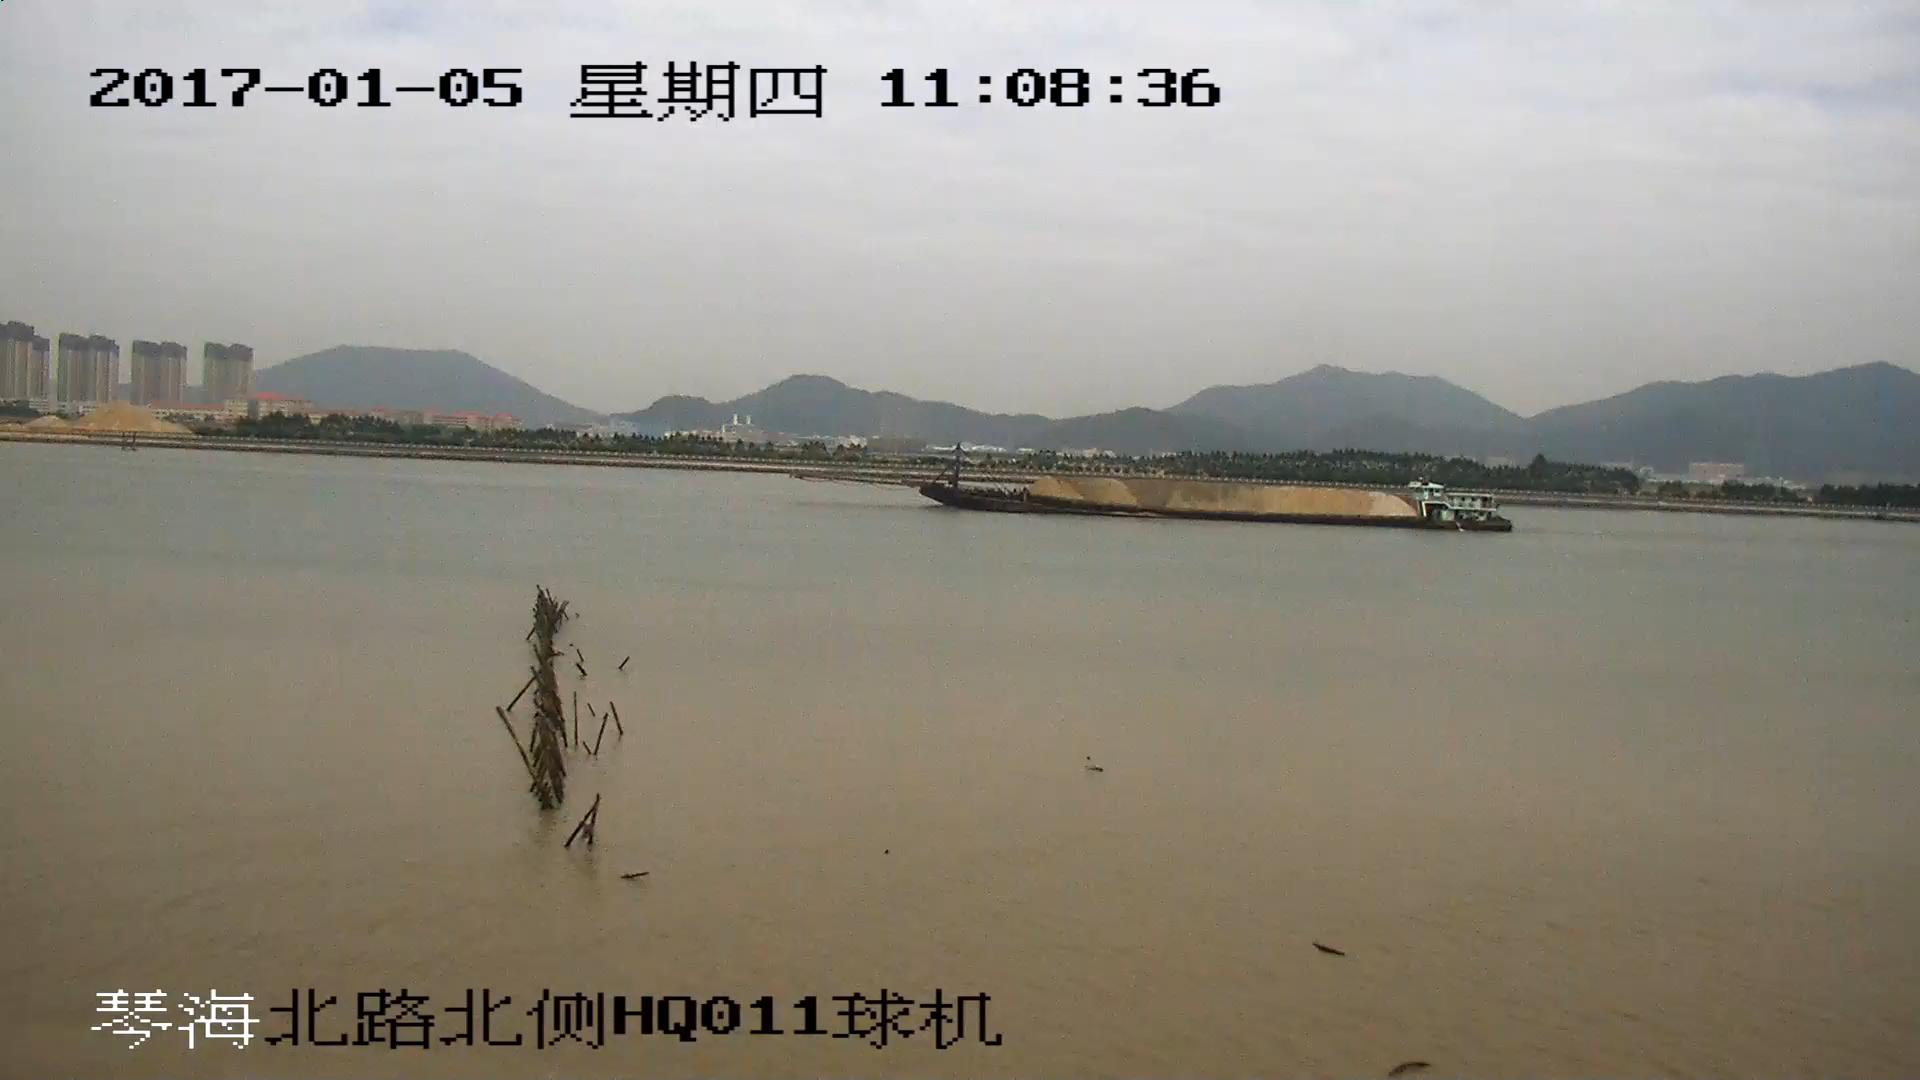ore carrier: (820, 450, 1510, 532)
